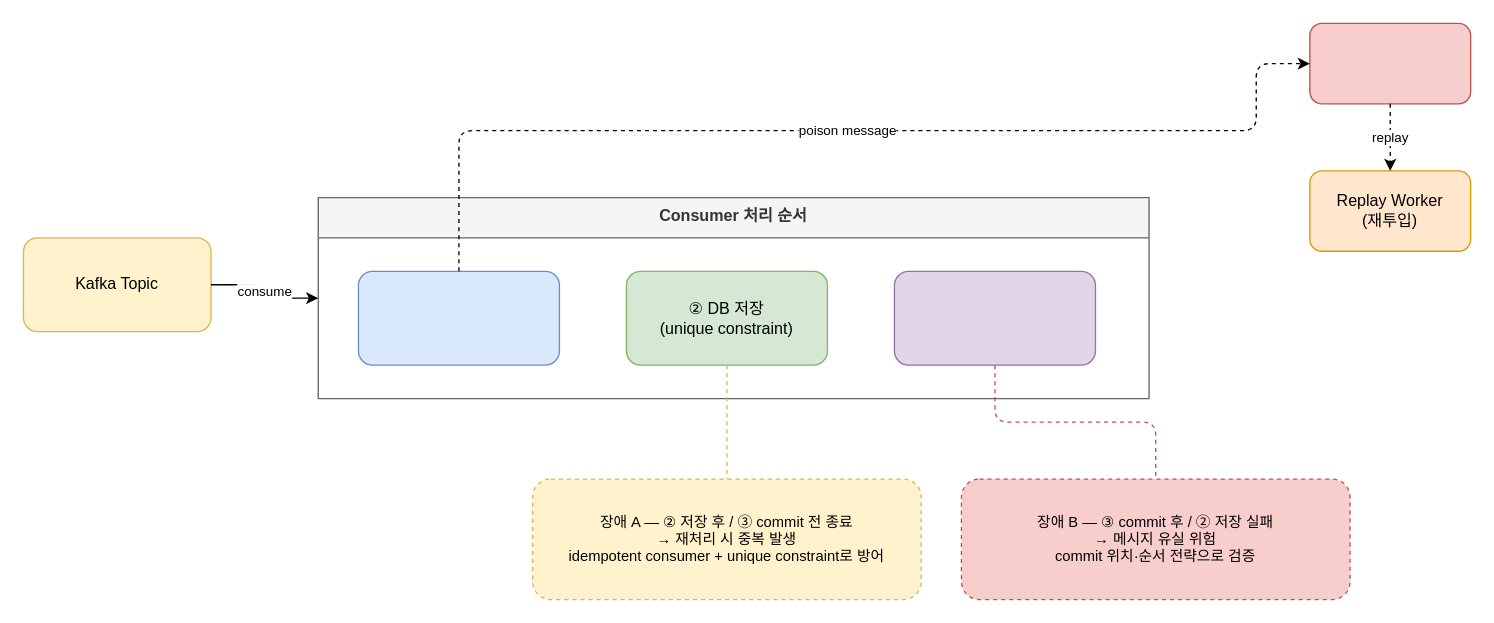
This 1494x623 diagram has some shape labels left out. Each missing label, with the box of its shape:
DLQ: (1309, 22, 1471, 104)
① 메시지 처리 (외부 API 호출): (357, 270, 559, 365)
③ manual offset commit: (893, 270, 1095, 365)
